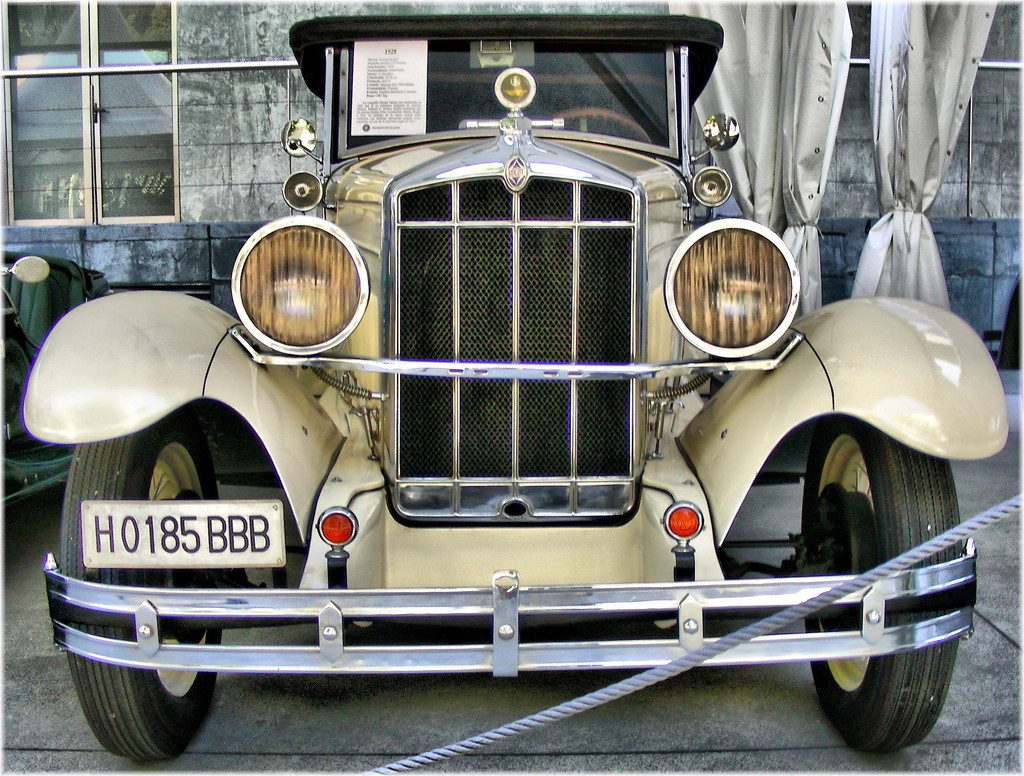Car: (49, 18, 961, 754), (0, 248, 113, 508)
